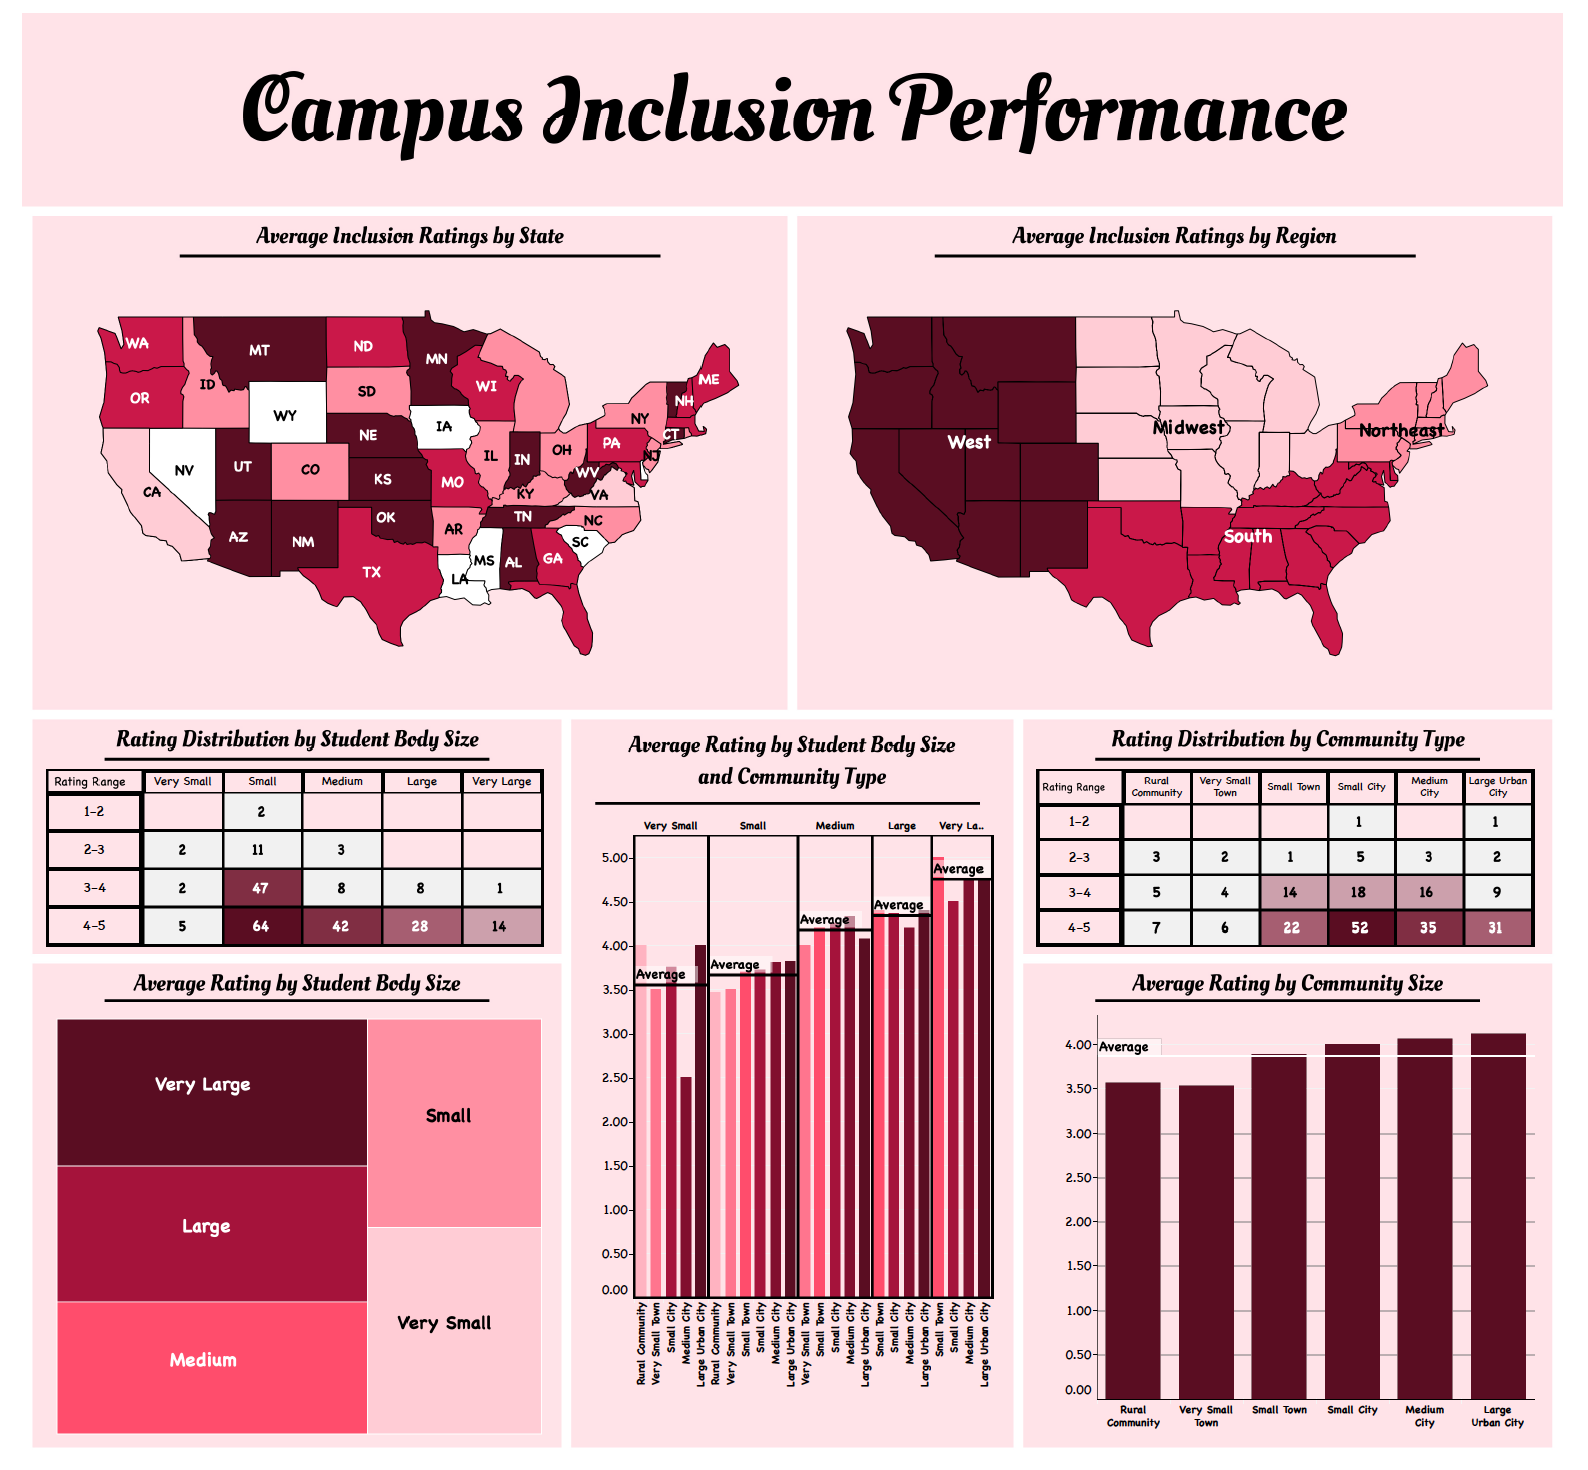

This screenshot's page, from the dashboard's own definition file:
{"tool":"tableau","page":{"name":"Dashboard 1","canvas":[1000,1000],"units":"permille","ordinal":0},"visuals":[{"type":"worksheet","title":"Avg Ratings by State","mark":"Automatic","box":[5,6.7,501.2,481.7]},{"type":"worksheet","title":"Avg Ratings by Region","mark":"Automatic","box":[506.2,6.7,488.8,481.7]},{"type":"worksheet","title":"Rating Count by Student Body","mark":"Square","rows":["Calculation_5261963636716556291"],"cols":["student_body_size"],"box":[5,488.3,330,155.8]},{"type":"worksheet","title":"Ratings by Student Body and Community","mark":"Automatic","rows":["Calculation_5261963636725325829"],"cols":["student_body_size","community_type"],"box":[335,488.3,330,505]},{"type":"worksheet","title":"Rating Count by Community","mark":"Square","rows":["Calculation_5261963636716556291"],"cols":["community_type"],"box":[665,488.3,330,155.8]},{"type":"worksheet","title":"Avg Ratings by Student Body","mark":"Automatic","box":[5,644.2,330,349.2]},{"type":"worksheet","title":"AVG Ratings by Community","mark":"Automatic","rows":["Calculation_5261963636725325829"],"cols":["community_type"],"box":[665,644.2,330,349.2]}]}

Visuals, with their boxes on the dashboard's canvas, which has no fixed pixel size, in thousandths of its width and height (x1, y1, x2, y2). These are canvas units, not pixel positions in the 1588x1470 screenshot, which may show the page scaled, cropped or inside an application window:
"Avg Ratings by State" worksheet: [x1=5, y1=7, x2=506, y2=488]
"Avg Ratings by Region" worksheet: [x1=506, y1=7, x2=995, y2=488]
"Rating Count by Student Body" worksheet (Square marks): [x1=5, y1=488, x2=335, y2=644]
"Ratings by Student Body and Community" worksheet: [x1=335, y1=488, x2=665, y2=993]
"Rating Count by Community" worksheet (Square marks): [x1=665, y1=488, x2=995, y2=644]
"Avg Ratings by Student Body" worksheet: [x1=5, y1=644, x2=335, y2=993]
"AVG Ratings by Community" worksheet: [x1=665, y1=644, x2=995, y2=993]
